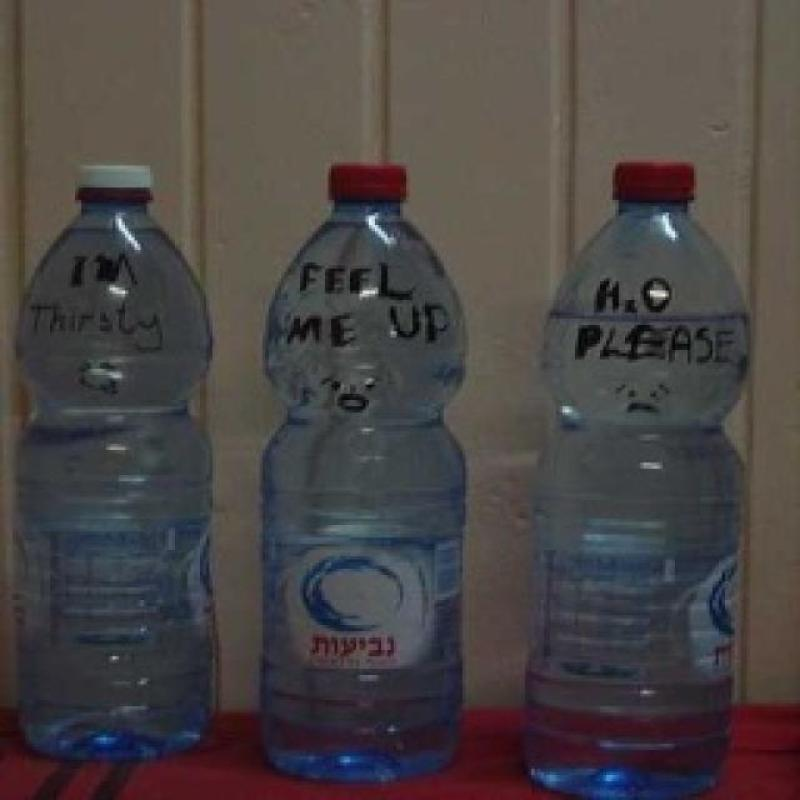botella: (515, 159, 756, 800), (259, 163, 472, 785), (13, 164, 225, 758)
